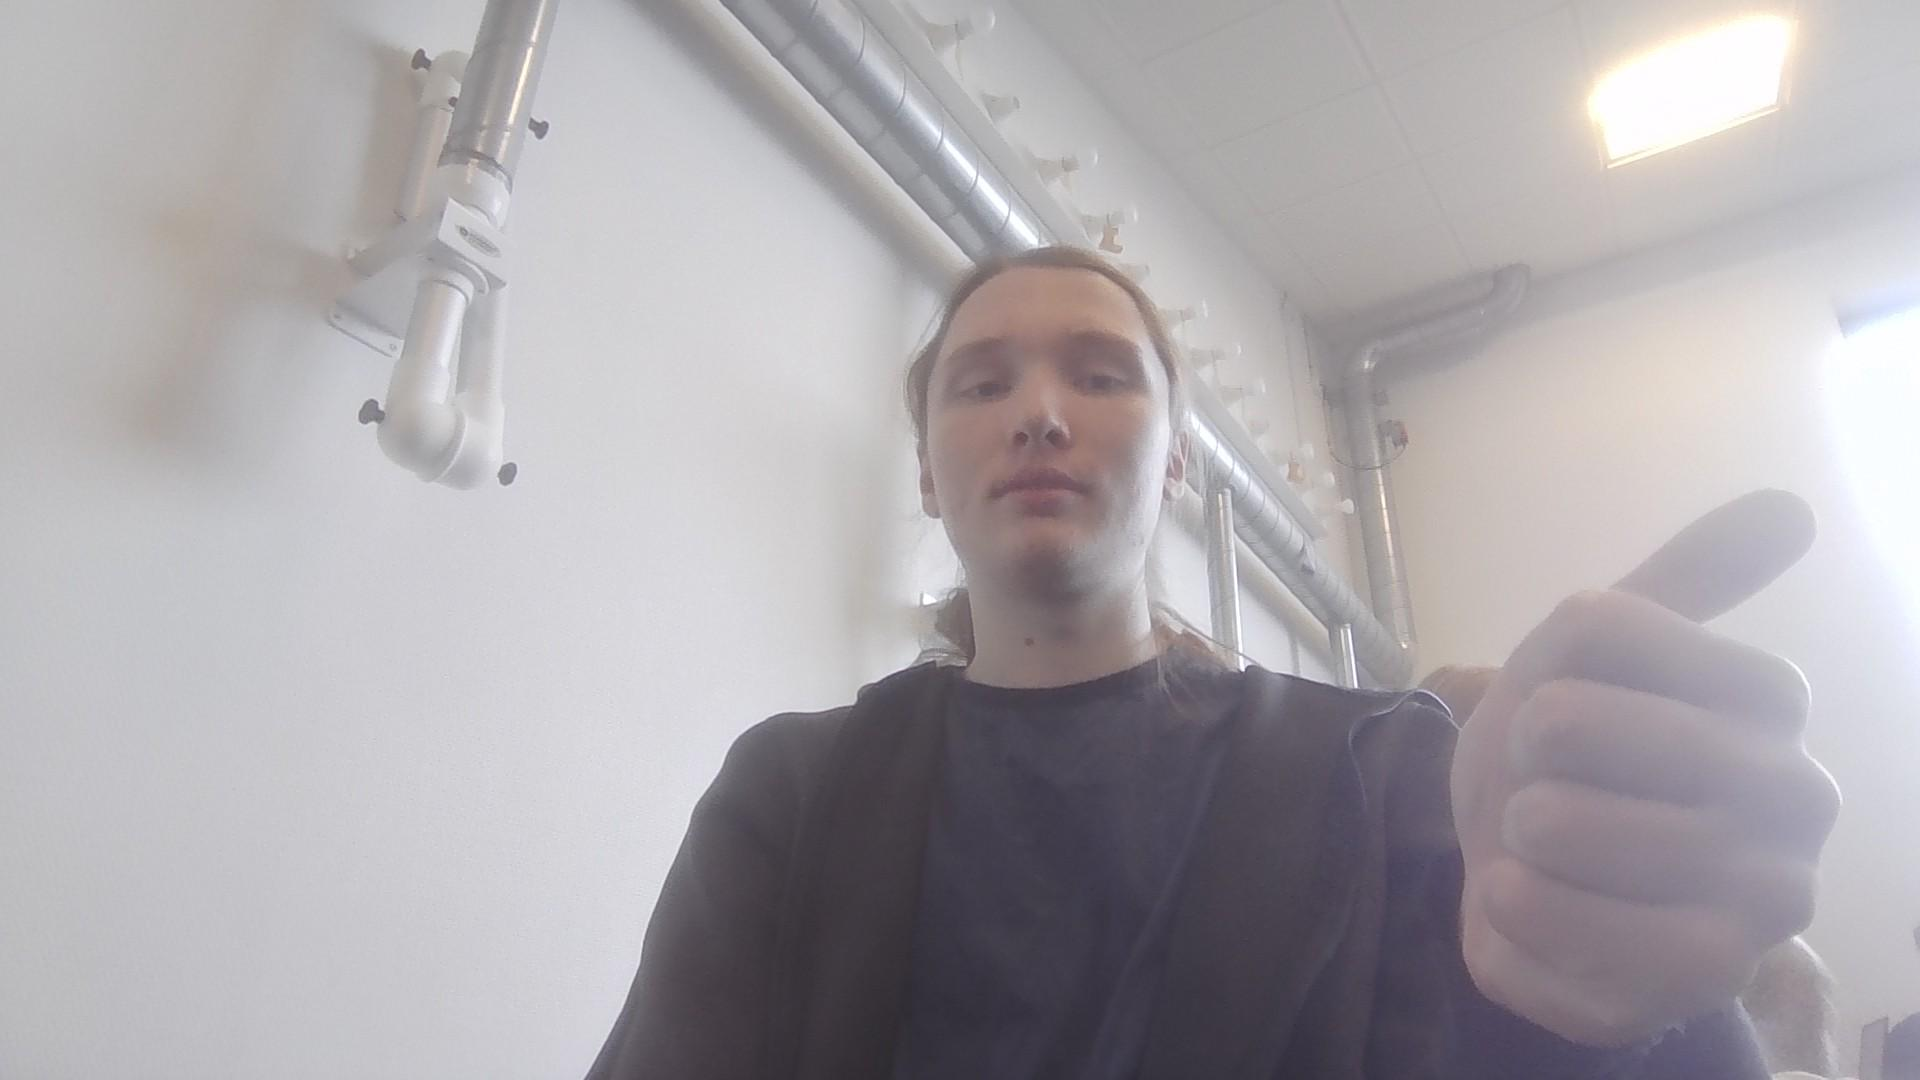thumbs up: (1432, 484, 1845, 1047)
